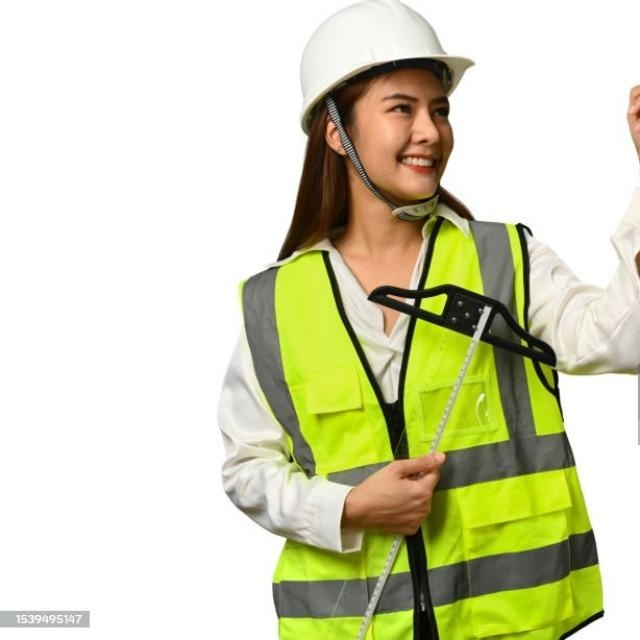Con_Casco: (293, 0, 474, 205)
Con_Chaleco: (239, 223, 605, 640)
